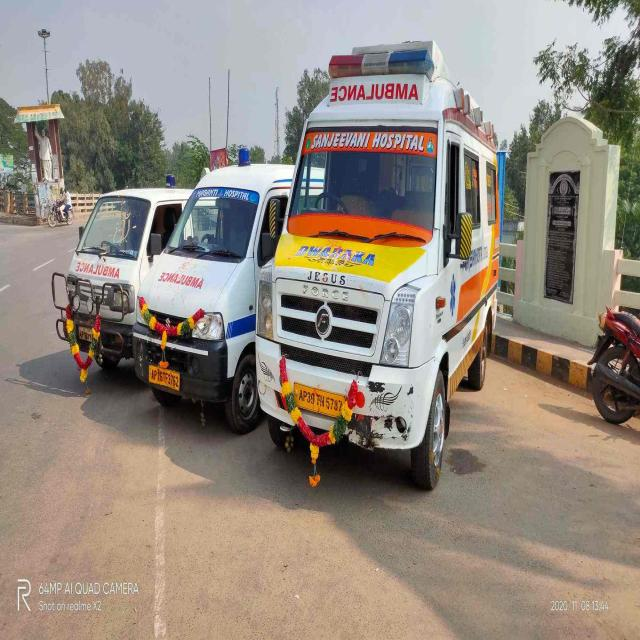ambulance: (257, 38, 503, 494), (135, 145, 326, 435), (65, 186, 190, 361)
